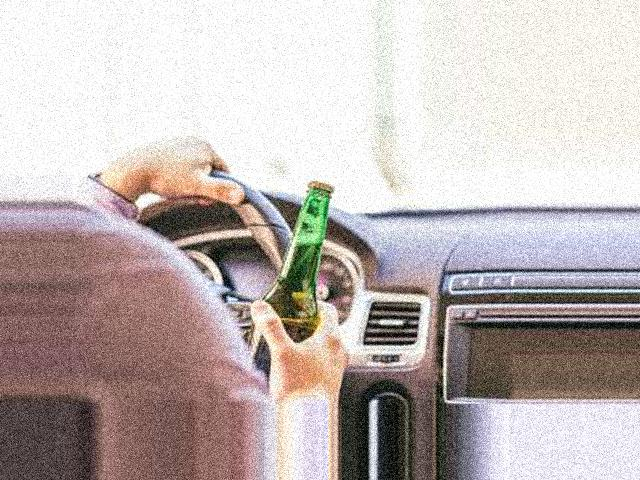beer: (243, 180, 335, 396)
